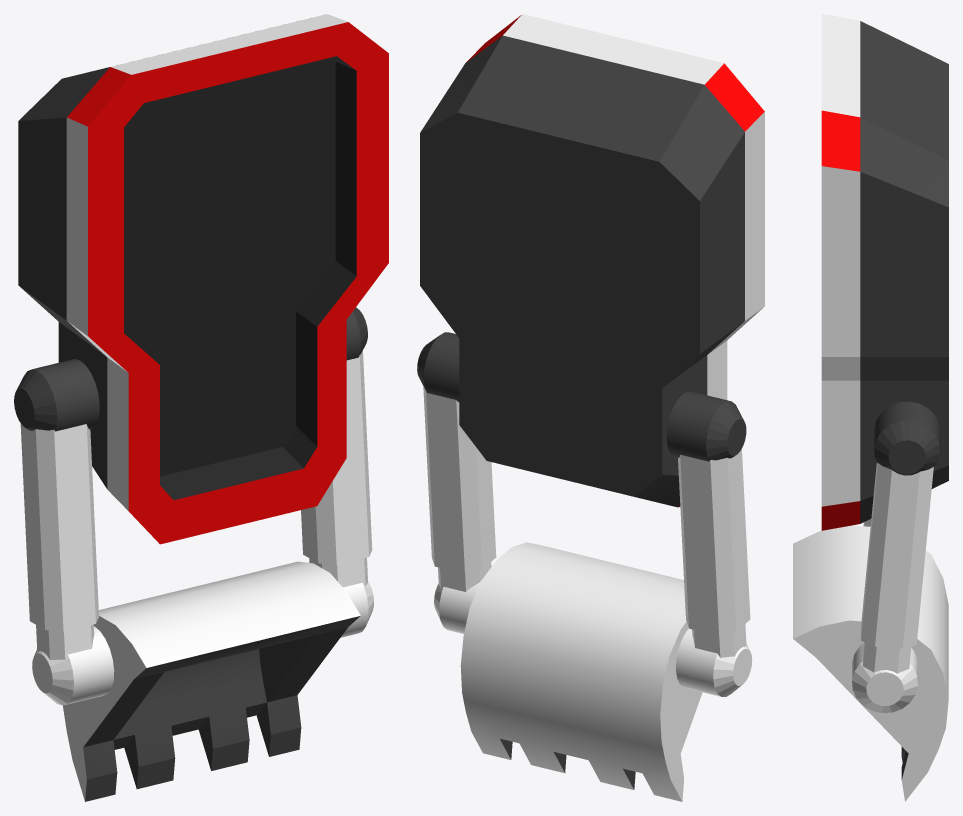
Rendered from terraformer.obj.
3 views of the same model, side by side, from view 1: azimuth 30°, elevation 25°; view 2: azimuth 150°, elevation 25°; view 3: azimuth 270°, elevation 25° (orthographic). The views are drawn at different scales.
Visible parts, largest first — view 1: Box006, Tube001, Box002, Box008, Cylinder041, Cylinder039, Box001, Cylinder043, Box007, Cylinder042; view 2: Box006, Tube001, Box002, Box008, Cylinder041, Cylinder039, Cylinder042, Cylinder043, Box001, Box007; view 3: Box006, Tube001, Box008, Cylinder042, Cylinder043, Box007.
Boxes of the visible parts, x1=… form: Box006: x1=18, y1=14, x2=388, y2=544; Tube001: x1=63, y1=561, x2=360, y2=801; Box002: x1=20, y1=423, x2=98, y2=631; Box008: x1=301, y1=350, x2=372, y2=564; Cylinder041: x1=14, y1=359, x2=99, y2=431; Cylinder039: x1=32, y1=626, x2=114, y2=705; Box001: x1=36, y1=624, x2=94, y2=659; Cylinder043: x1=340, y1=581, x2=373, y2=637; Box007: x1=309, y1=557, x2=367, y2=587; Cylinder042: x1=346, y1=307, x2=367, y2=360; Box006: x1=420, y1=14, x2=764, y2=507; Tube001: x1=460, y1=542, x2=702, y2=801; Box002: x1=678, y1=449, x2=750, y2=635; Box008: x1=423, y1=386, x2=496, y2=573; Cylinder041: x1=666, y1=391, x2=746, y2=461; Cylinder039: x1=676, y1=628, x2=752, y2=696; Cylinder042: x1=417, y1=332, x2=459, y2=402; Cylinder043: x1=434, y1=579, x2=482, y2=633; Box001: x1=692, y1=624, x2=746, y2=657; Box007: x1=438, y1=562, x2=491, y2=591; Box006: x1=821, y1=14, x2=948, y2=530; Tube001: x1=793, y1=525, x2=948, y2=801; Box008: x1=861, y1=462, x2=933, y2=648; Cylinder042: x1=874, y1=401, x2=940, y2=475; Cylinder043: x1=852, y1=643, x2=917, y2=713; Box007: x1=863, y1=642, x2=911, y2=673.
Bounding box in the file's own units: 0.9637 × 2.1 × 0.4279.
